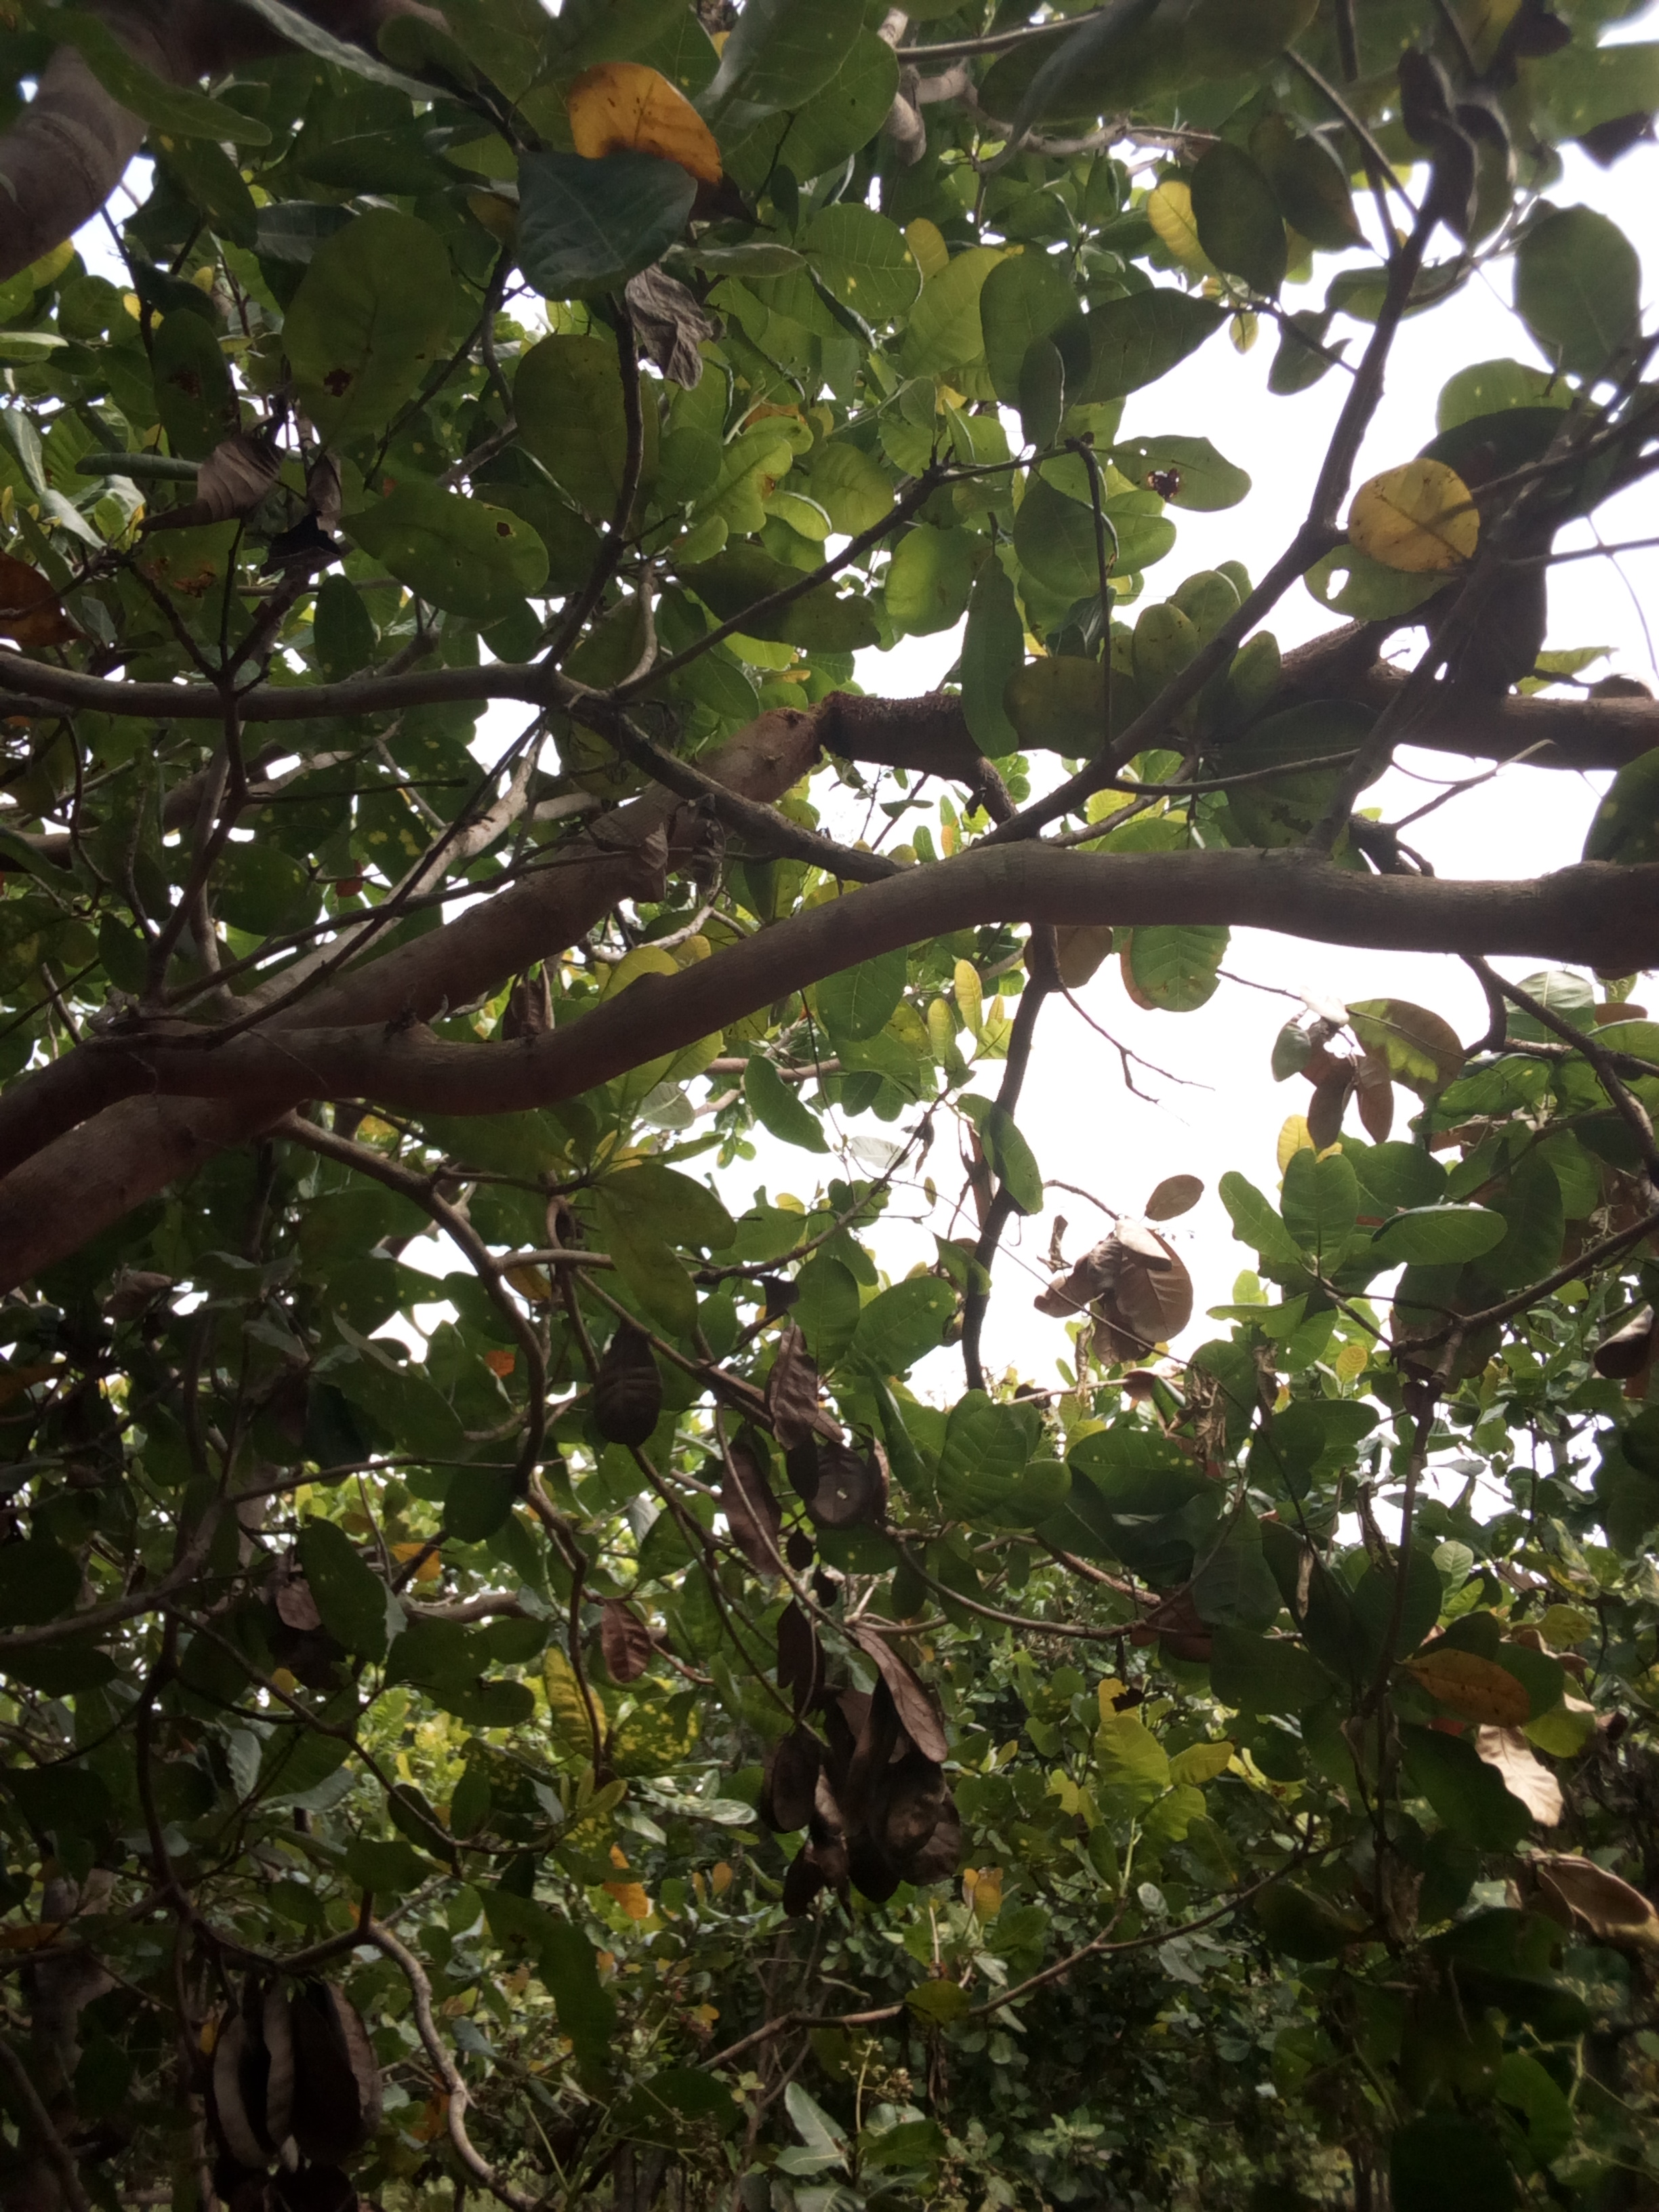Dessèchement des bourgeons: (805, 1604, 938, 1848)
